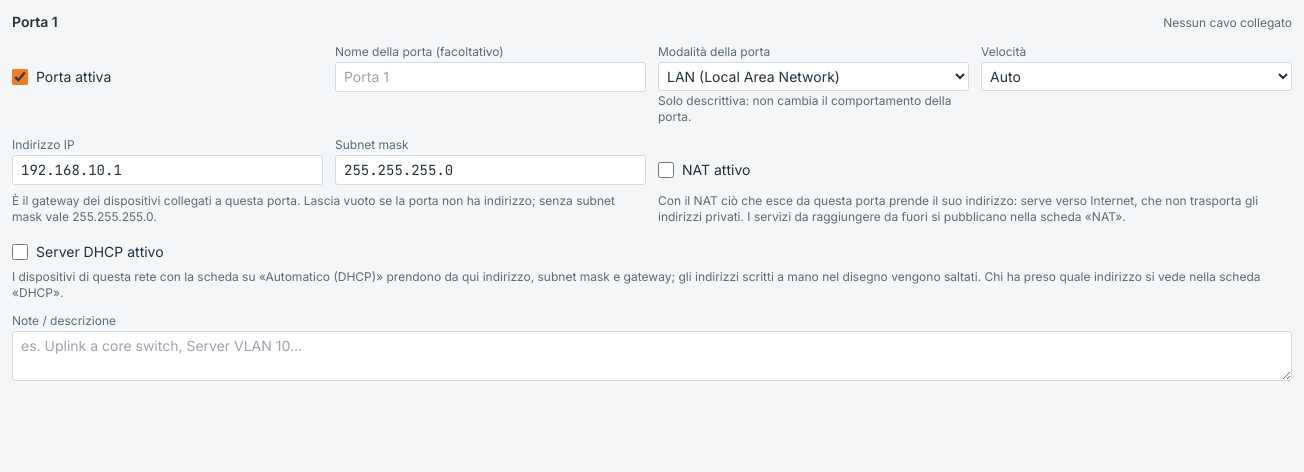
Test: PortEditor — the DHCP server of a port › is off until it is ticked; ticked, it starts from a range of the network of the port
Expected: the field labelled "Primo indirizzo" is not shown
Click the checkbox labelled "Server DHCP attivo" at point(20, 252), box x1=12 y1=244 x2=28 y2=260
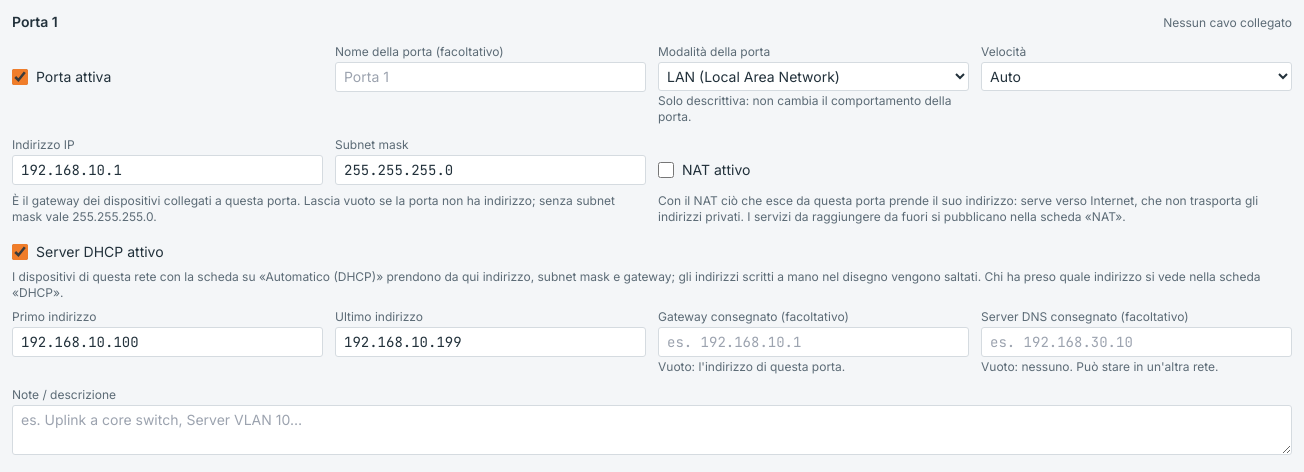
Now the field labelled "Primo indirizzo" holds "192.168.10.100", box x1=12 y1=327 x2=323 y2=357
Now the field labelled "Ultimo indirizzo" holds "192.168.10.199", box x1=335 y1=327 x2=646 y2=357
